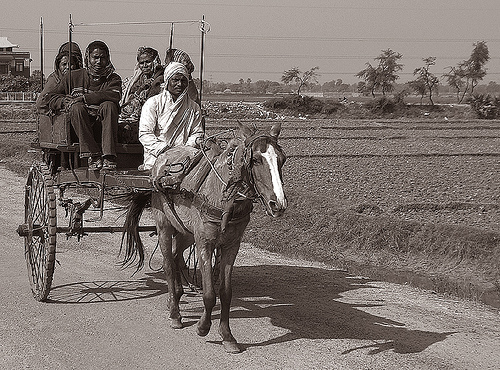horse: (118, 120, 288, 351)
